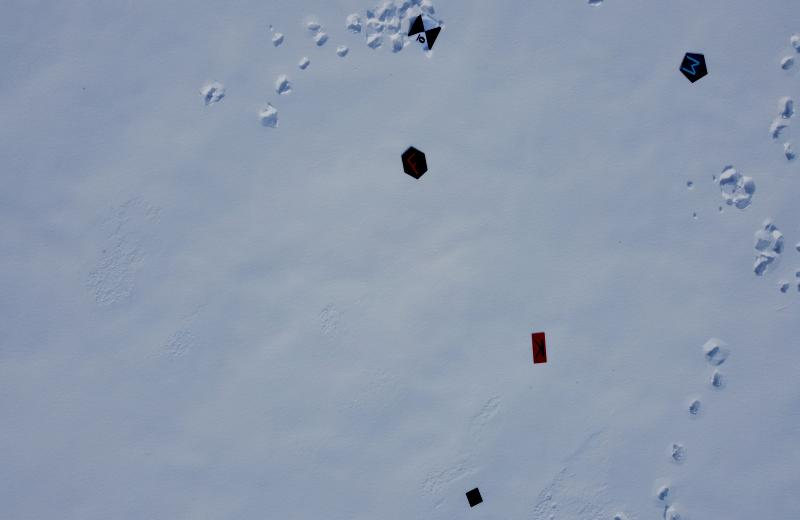Hexagon: (399, 145, 432, 179)
Pentagon: (679, 49, 710, 82)
Rectangle: (528, 328, 552, 367)
Square: (467, 487, 482, 507)
